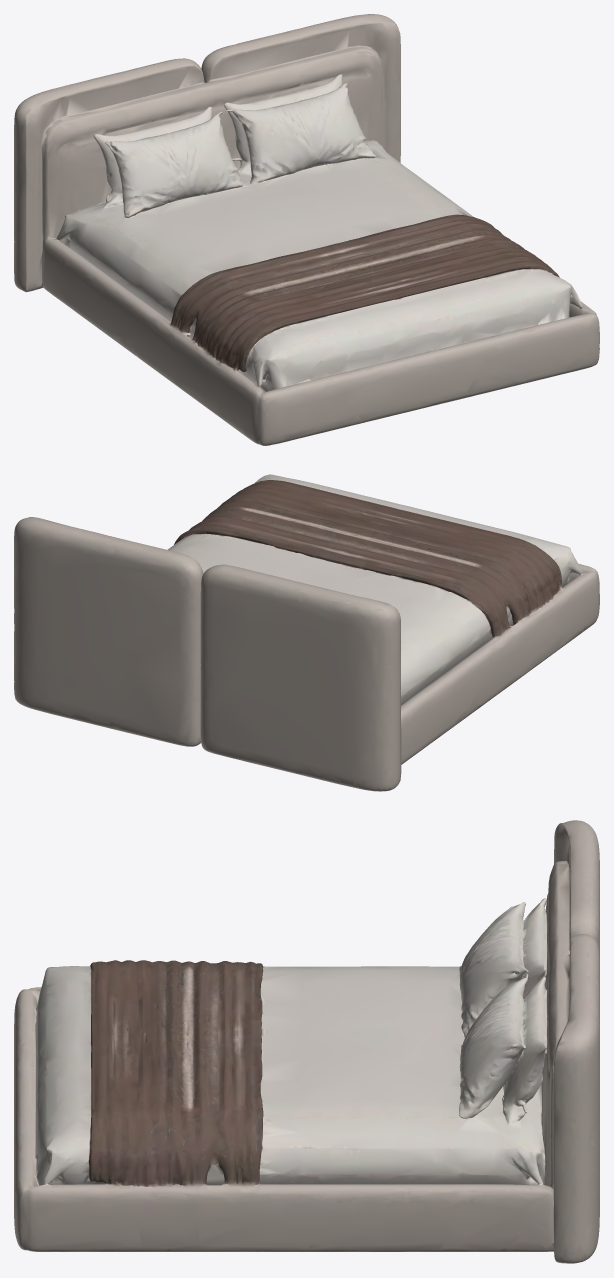
Rendered from fm_bed_grey.glb.
The picture shows the model from 3 angles, top to bottom: view 1: azimuth 30°, elevation 25°; view 2: azimuth 150°, elevation 25°; view 3: azimuth 270°, elevation 25°; orthographic projection. The views are drawn at different scales.
Visible parts, largest first — view 1: geometry_0; view 2: geometry_0; view 3: geometry_0.
Boxes of the visible parts, bbox=[...] form: geometry_0: bbox=[14, 14, 599, 445]; geometry_0: bbox=[14, 474, 599, 791]; geometry_0: bbox=[14, 820, 599, 1263].
Size of the model in its own units: 0.9259 by 0.4365 by 1.
Materials: 1 (1 with a texture image).
